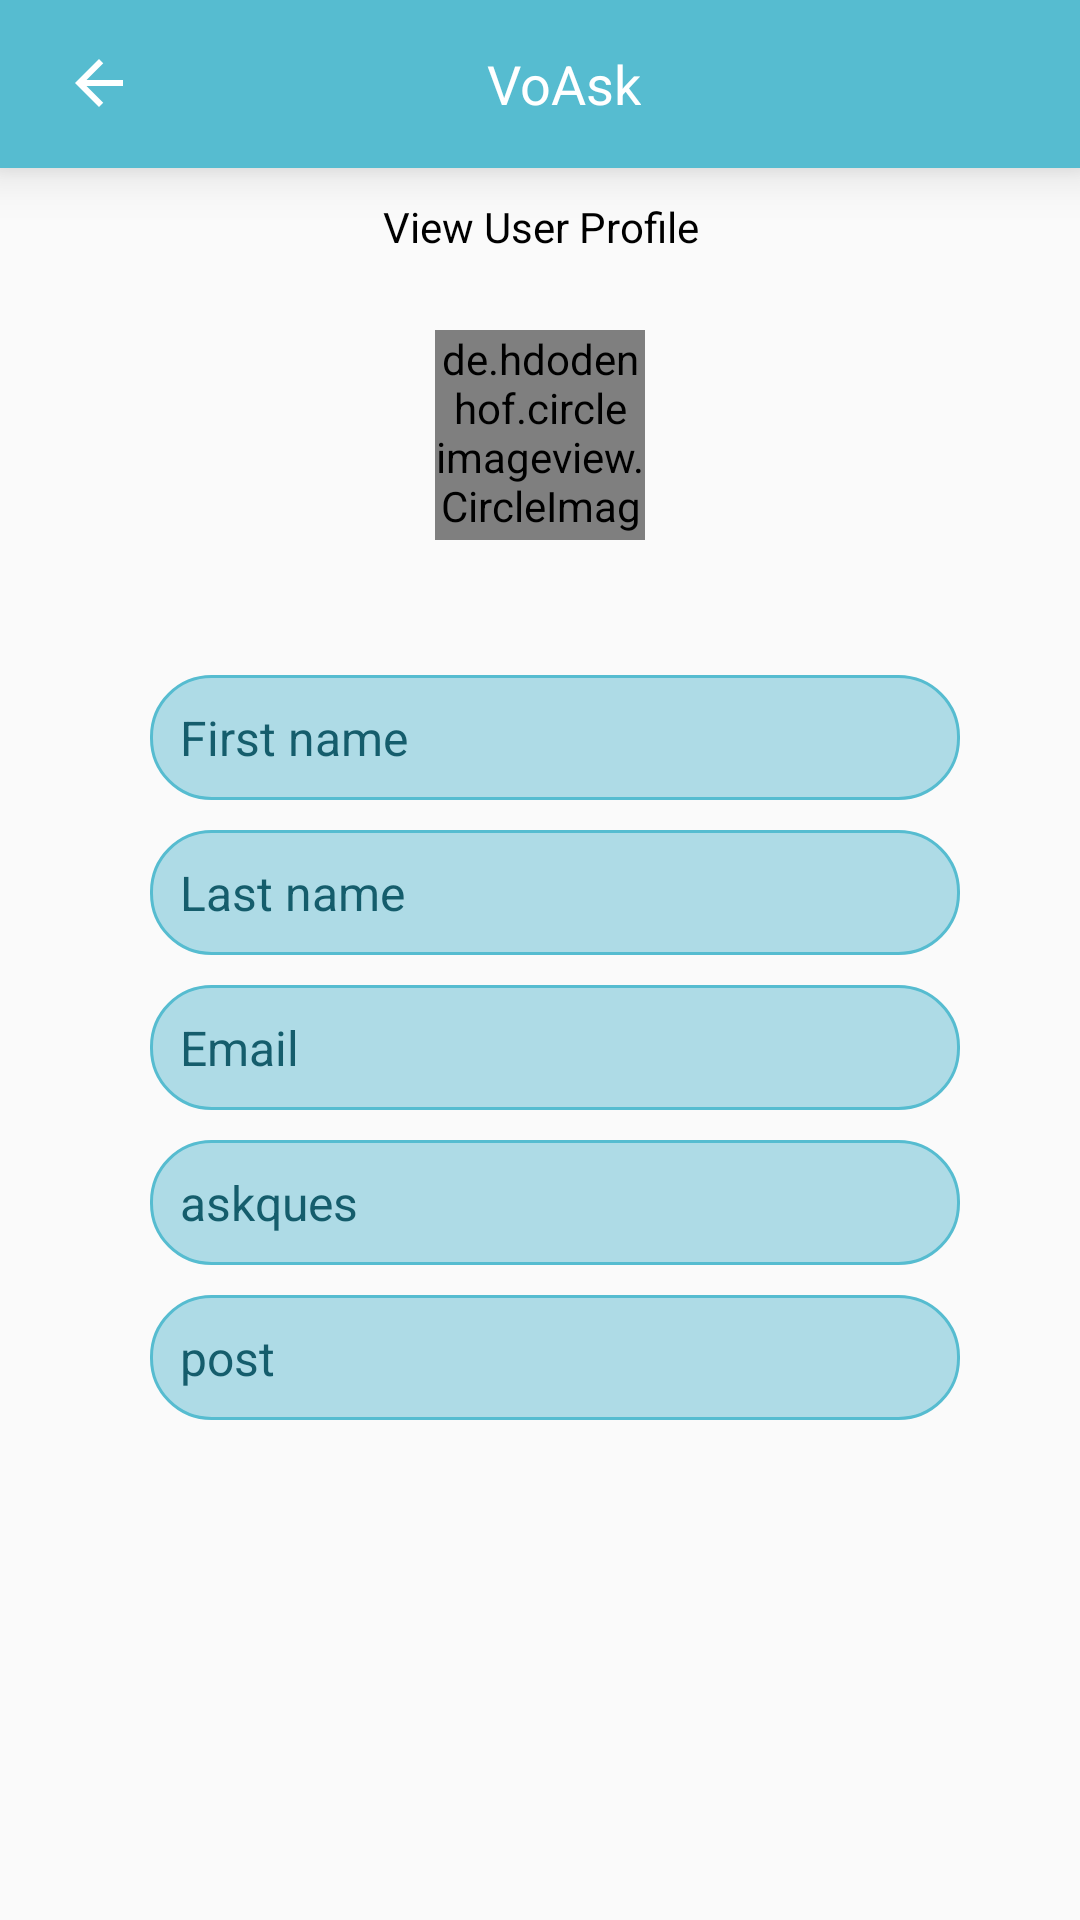

Named icons in this screenshot (1080×1920) and their bounding boxes, (x1, y1, x2, y2):
back: (75, 59, 123, 107)
